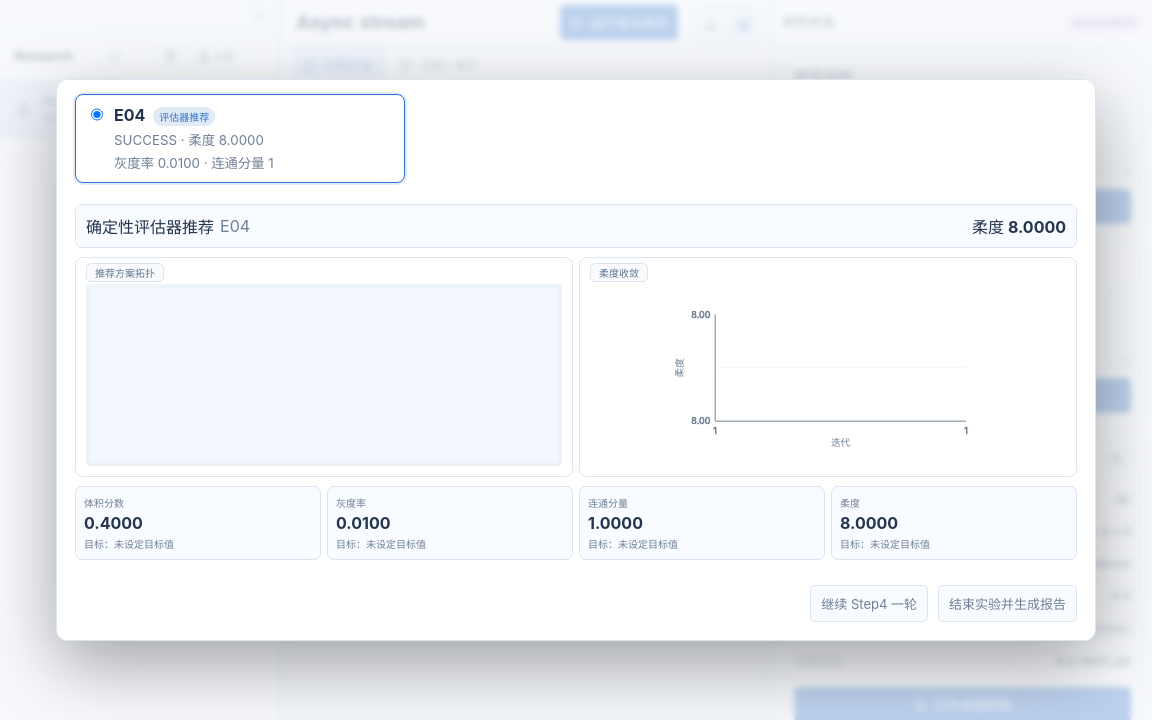
Test: ResearchWorkspace stream lifecycle › uses the final Step4 choices without a second pre-run approval
The image size is (1152, 720).
(page scrolled)
Click the button "结束实验并生成报告" at (1008, 604), box 938,585 -> 1077,622
(page scrolled)
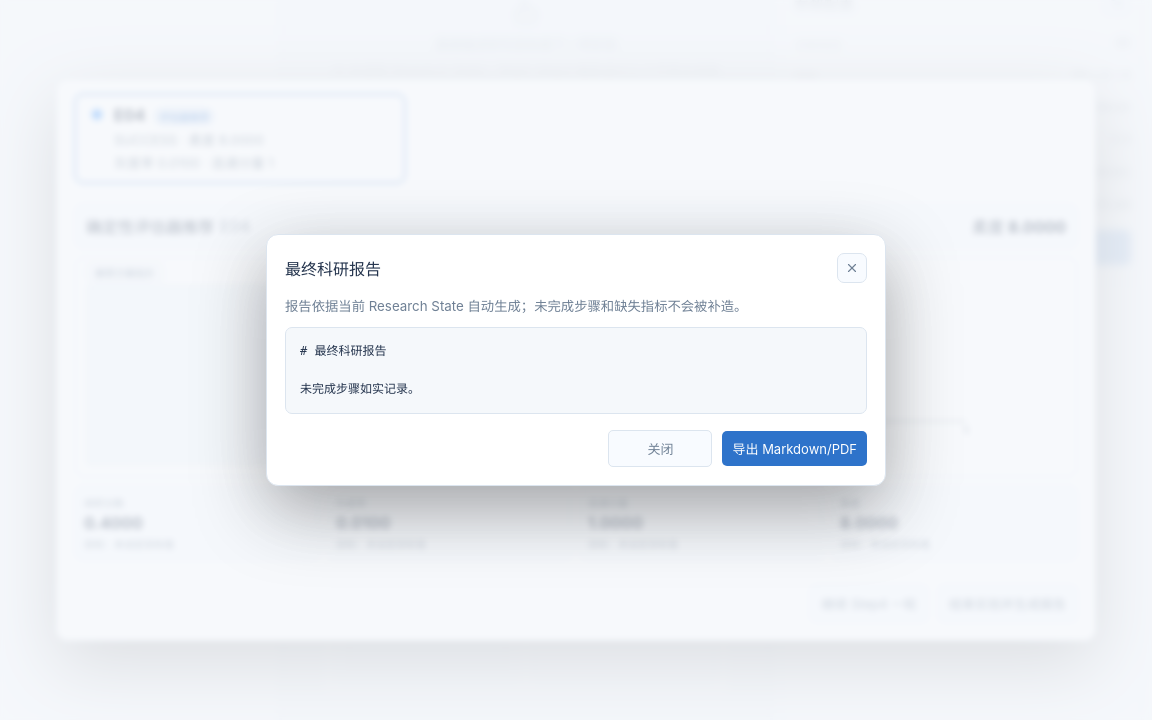
Now the dialog "最终科研报告" is shown, box 266,234 -> 886,486
